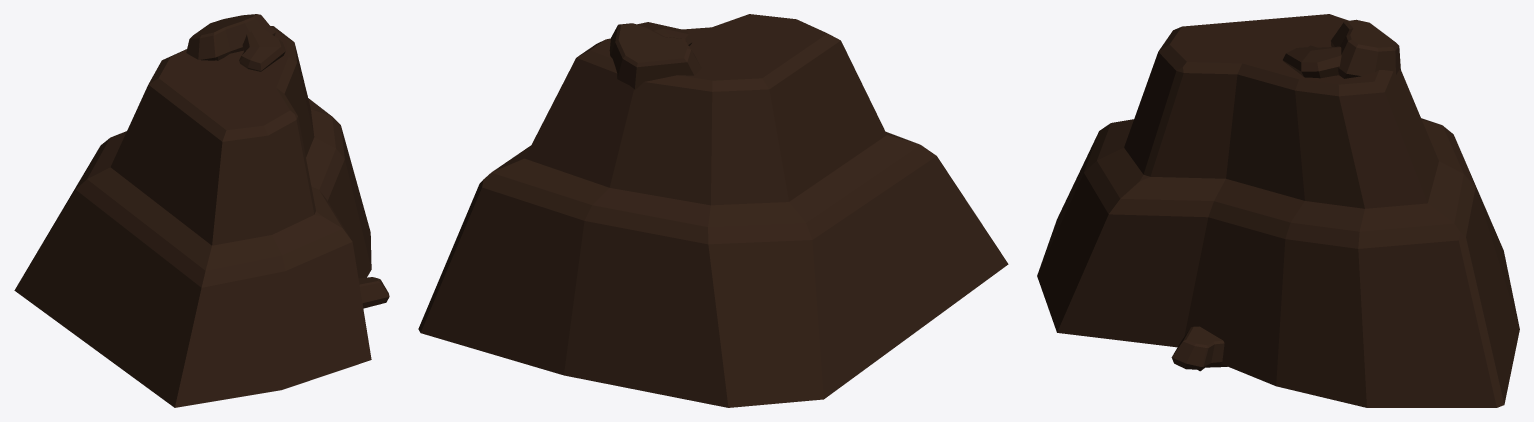
The model's file is rock4.obj.
3 renders of one model, left to right at view 1: azimuth 30°, elevation 25°; view 2: azimuth 150°, elevation 25°; view 3: azimuth 270°, elevation 25°, orthographic. The views are drawn at different scales.
Parts seen in each view (by area): view 1: rock4; view 2: rock4; view 3: rock4.
Part boxes in pixels (x1=…): rock4: x1=14, y1=14, x2=389, y2=407; rock4: x1=418, y1=14, x2=1008, y2=407; rock4: x1=1037, y1=14, x2=1519, y2=407.
Bounding box in the file's own units: 2 × 1.51 × 2.16.
